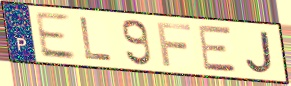9: (121, 18, 153, 66)
E: (33, 10, 78, 62), (196, 25, 240, 74)
F: (155, 21, 194, 69)
J: (244, 29, 275, 75)
L: (77, 15, 115, 63)
